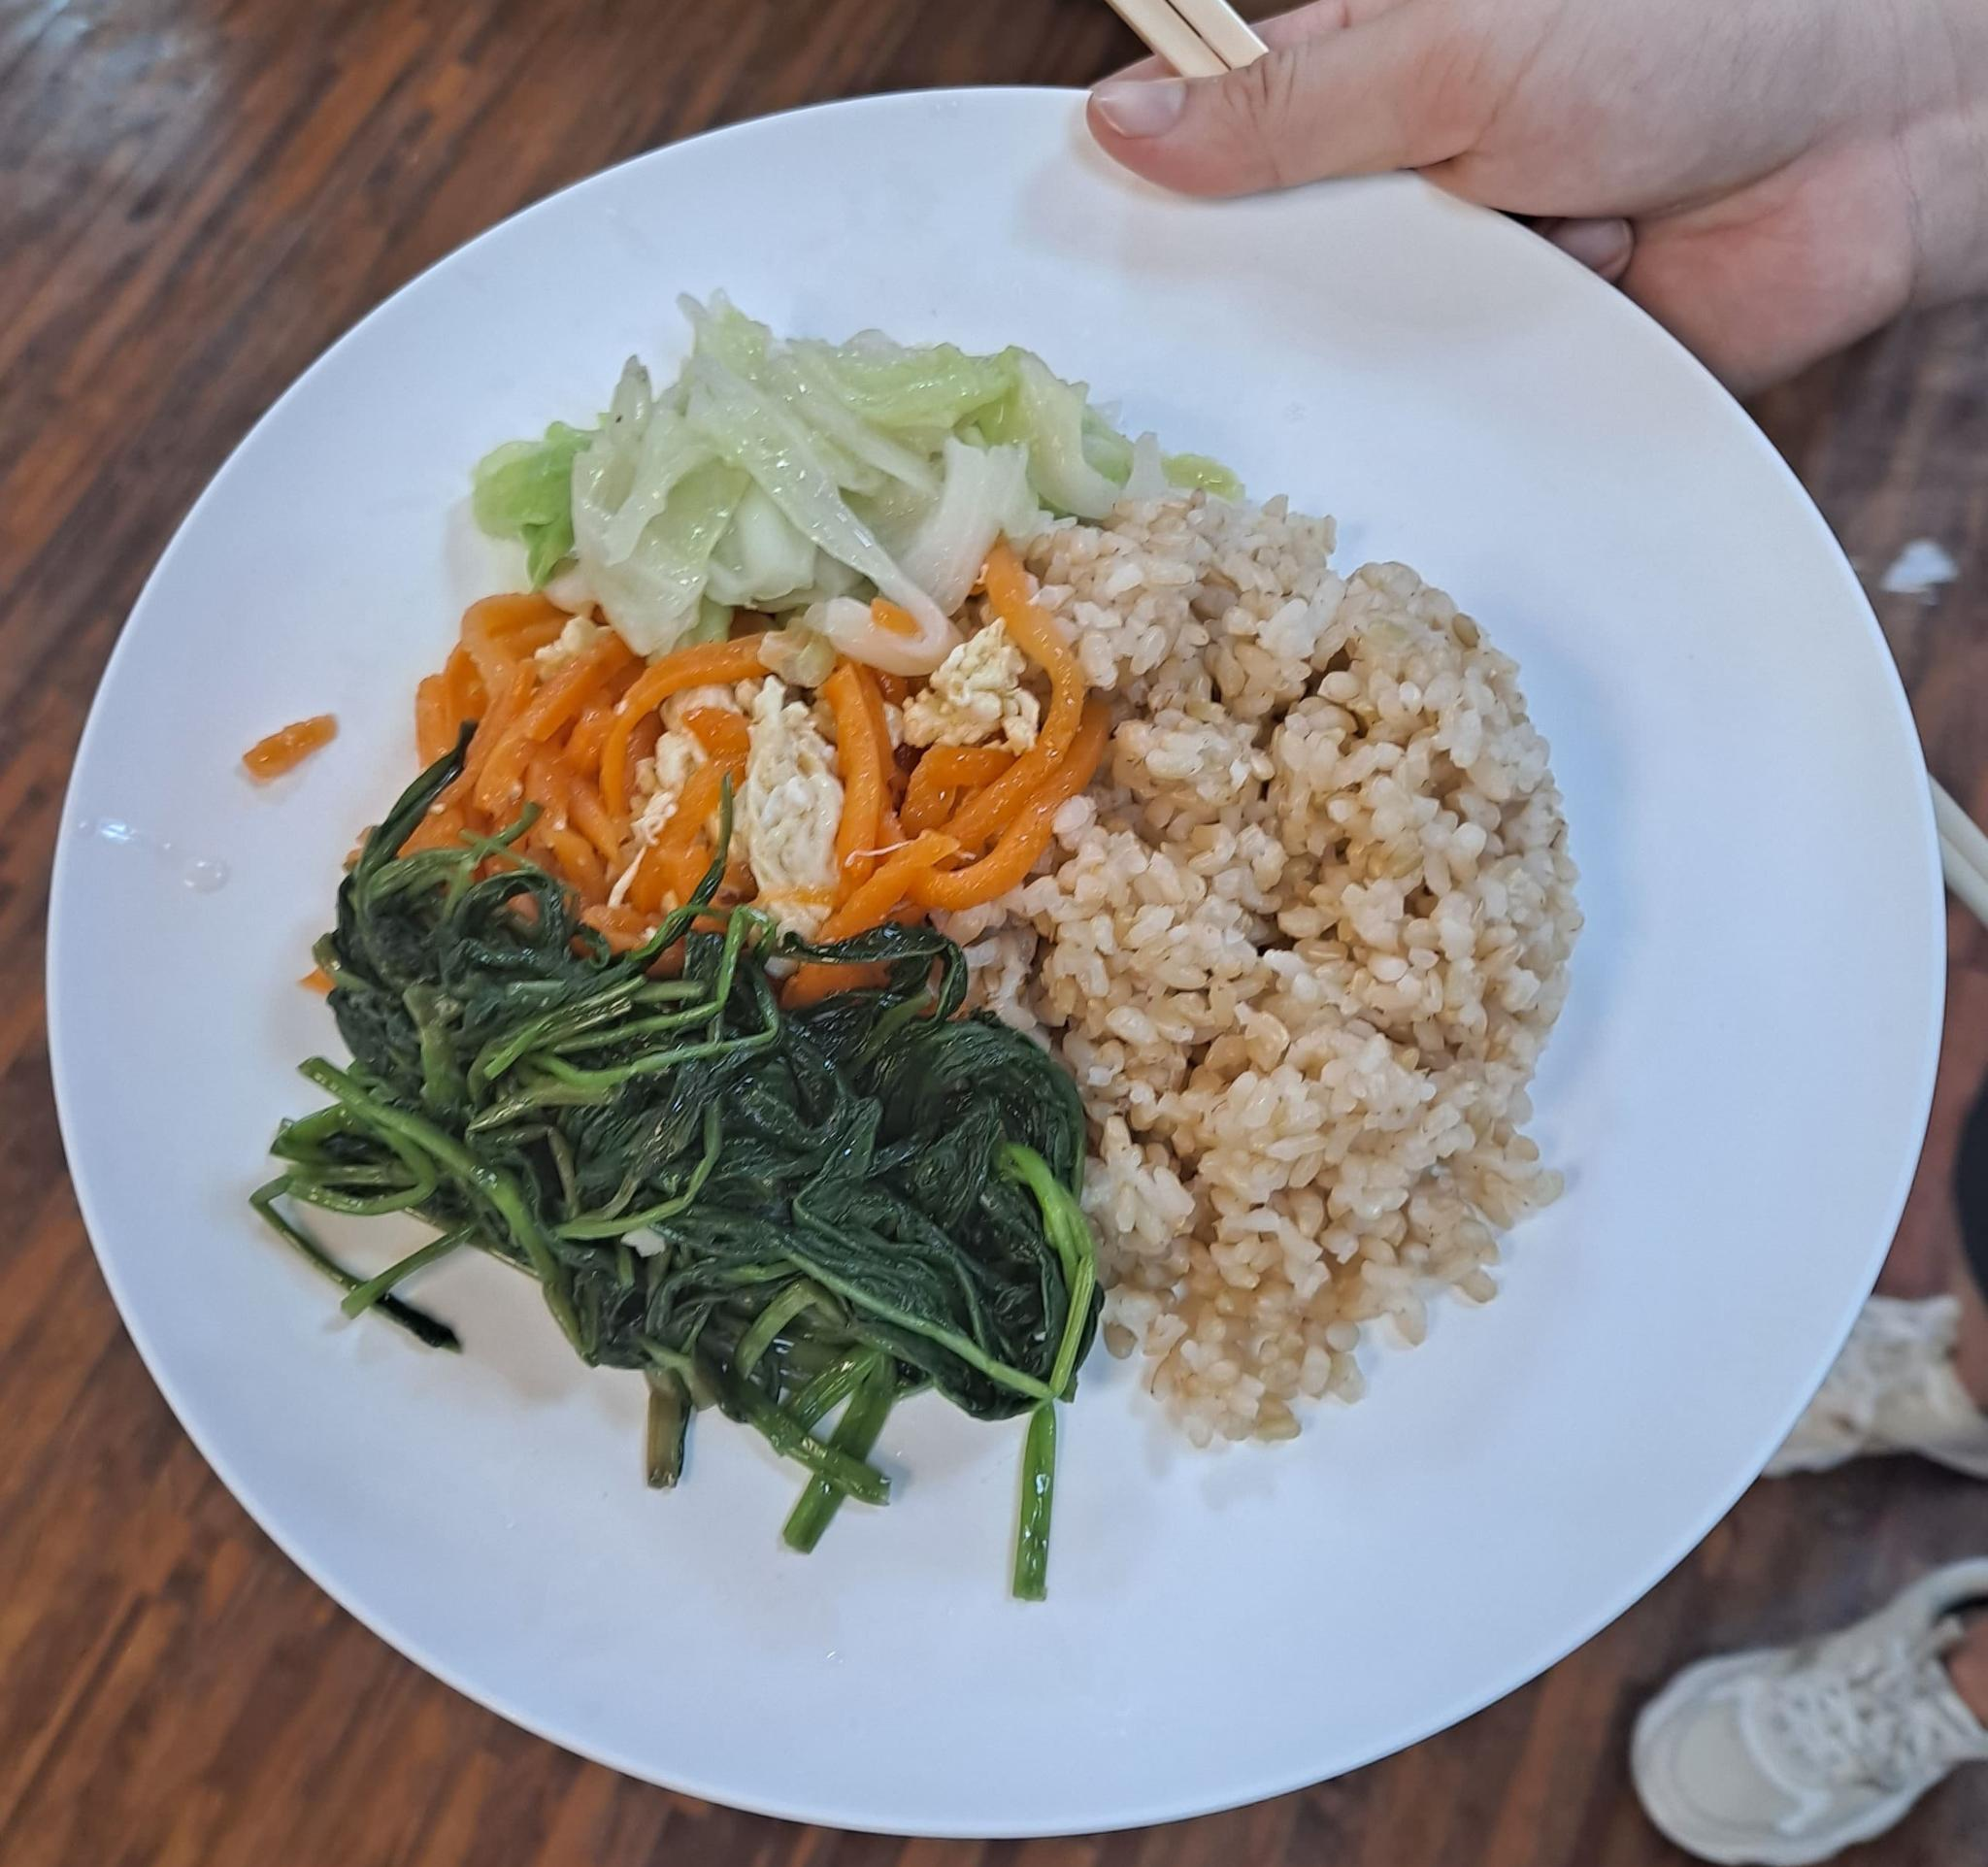big fried chicken leg: (0, 53, 1983, 1856)
box: (983, 493, 1563, 1448)
braised fish fillet: (263, 851, 1111, 1606), (379, 588, 1093, 960), (472, 298, 1146, 646)
